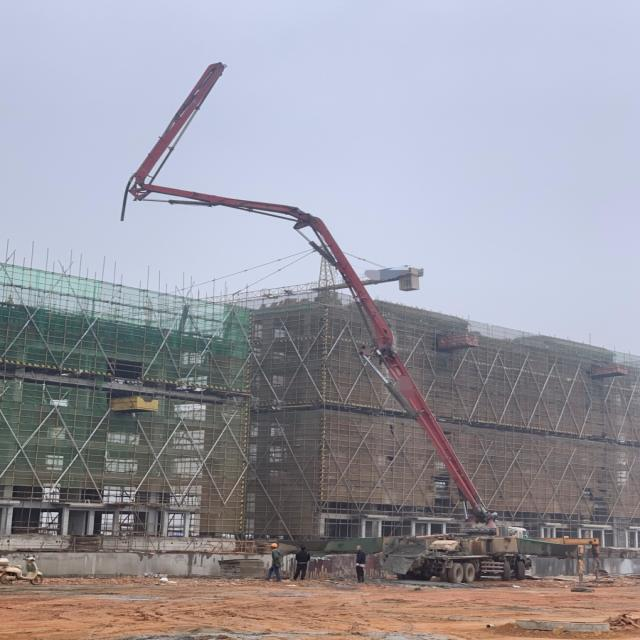crane: (197, 255, 423, 303)
truck: (120, 62, 612, 592)
